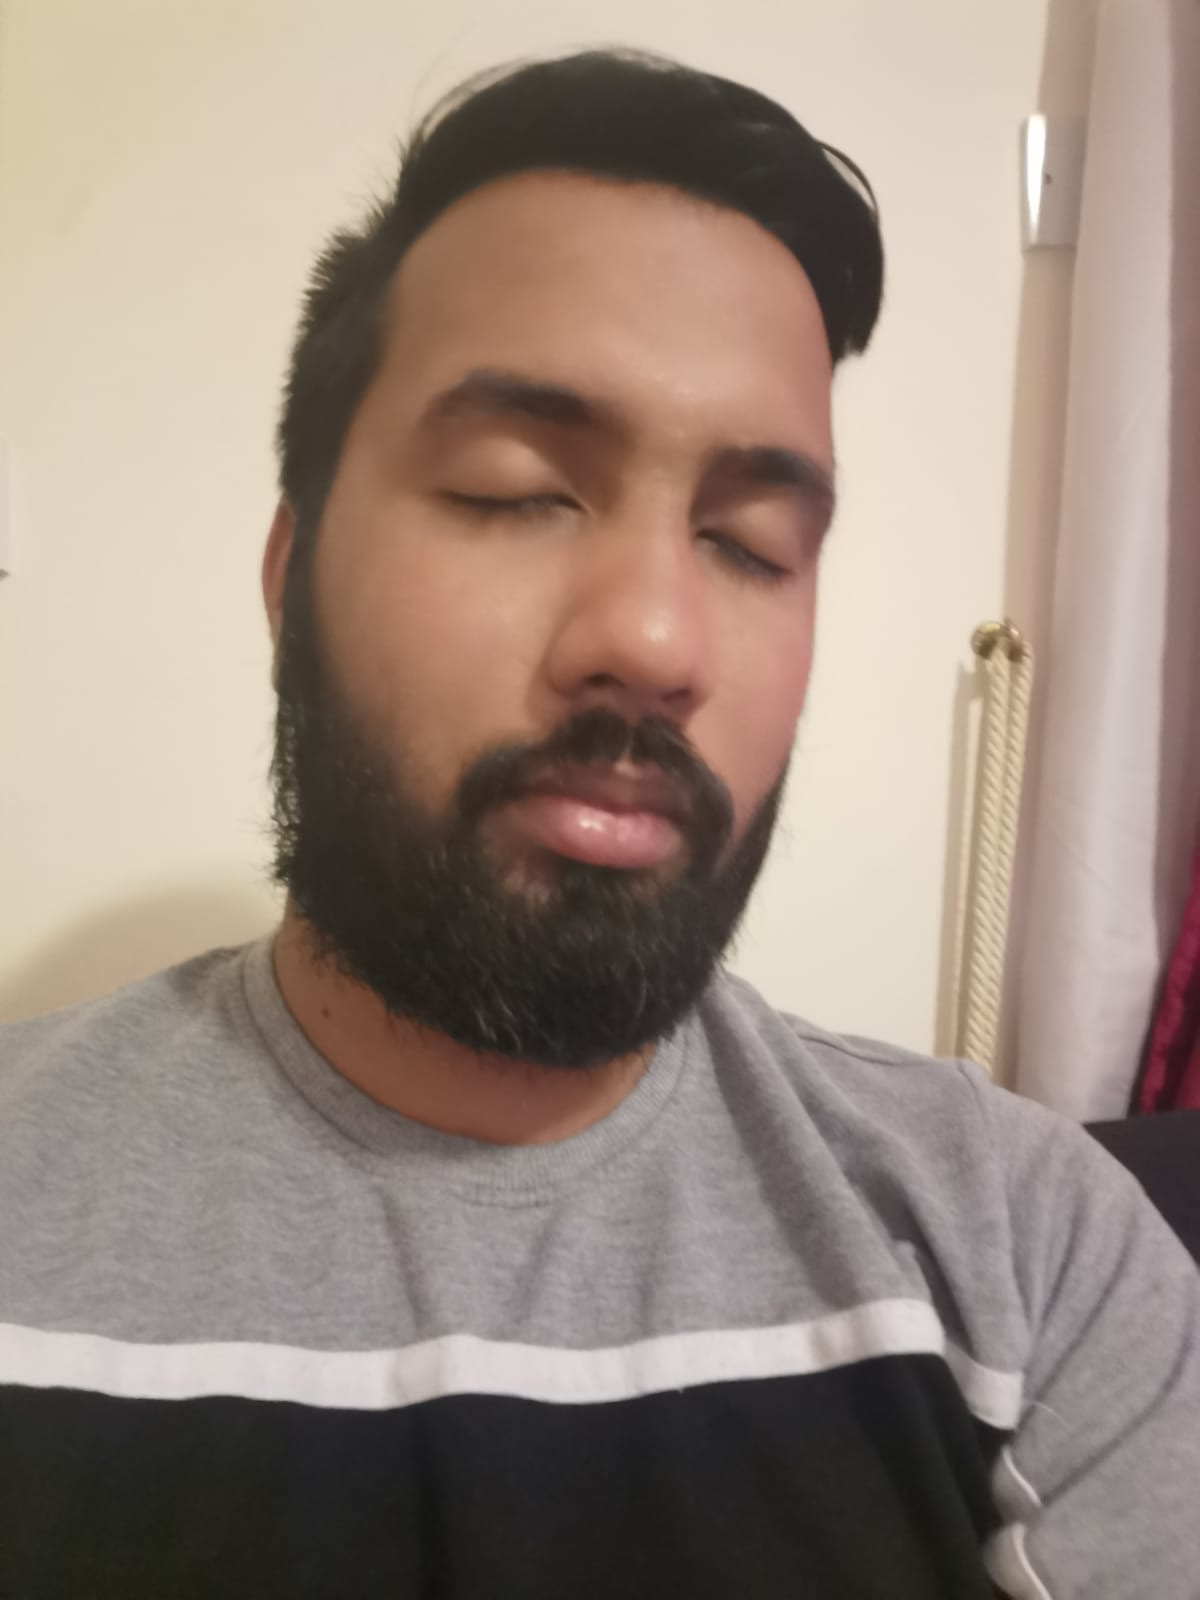Sleeping: (387, 409, 841, 615)
